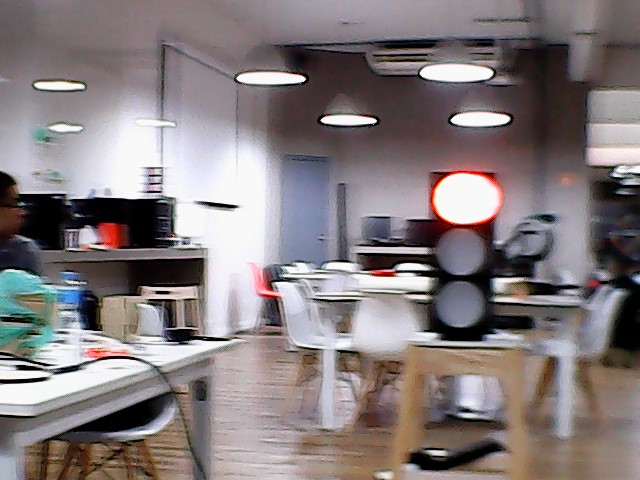vermelho: (426, 168, 498, 341)
